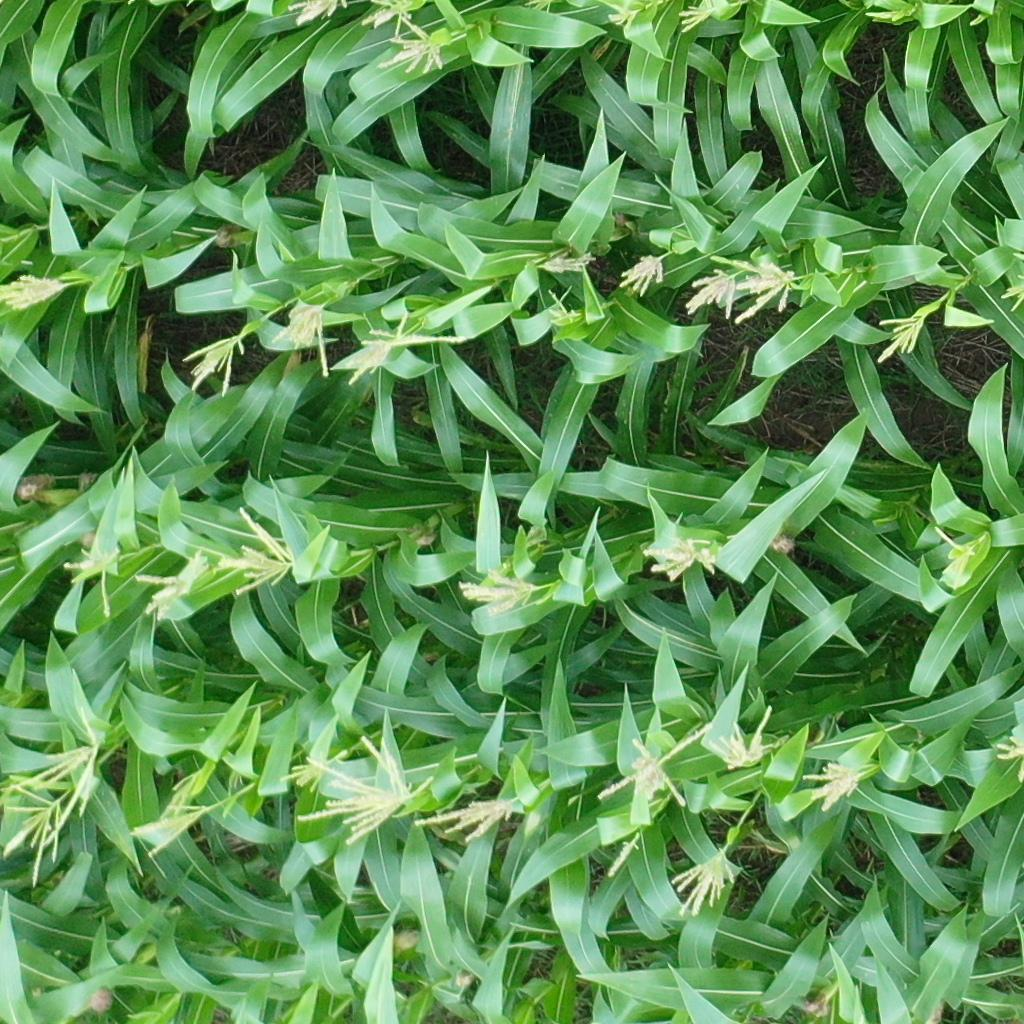Tassel: (299, 733, 434, 846), (4, 722, 102, 844), (594, 720, 710, 817), (343, 310, 466, 384), (712, 247, 808, 323), (1, 784, 75, 882), (215, 503, 291, 597), (409, 791, 532, 844), (133, 544, 211, 620), (129, 792, 211, 859), (269, 297, 335, 377), (63, 533, 127, 615), (453, 562, 546, 618), (176, 331, 247, 403), (669, 846, 740, 916), (704, 702, 775, 772), (641, 525, 715, 582), (377, 19, 449, 74), (676, 265, 739, 323), (800, 759, 871, 809), (279, 743, 347, 795), (1, 267, 71, 314), (869, 306, 925, 364), (934, 521, 981, 590), (151, 763, 207, 816), (613, 247, 669, 300), (357, 1, 420, 35), (992, 243, 1024, 309), (676, 1, 730, 38), (534, 245, 596, 277), (543, 287, 581, 330), (289, 1, 350, 27), (989, 733, 1023, 779), (605, 1, 643, 38), (861, 2, 917, 23)
